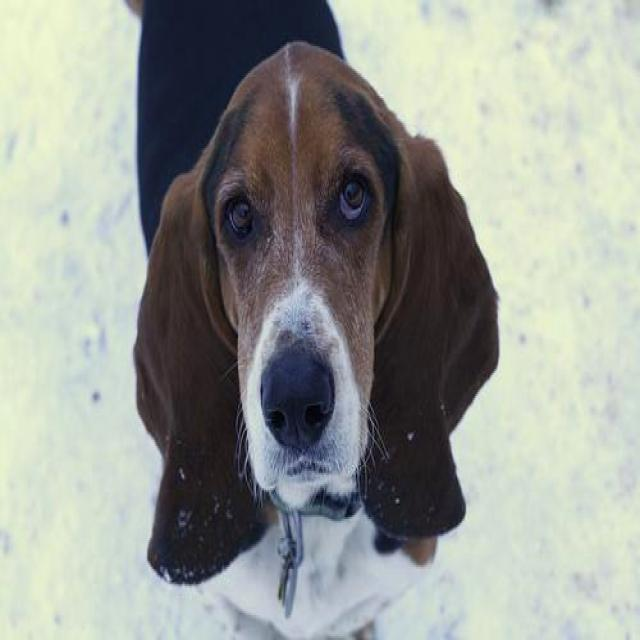basset: (122, 0, 498, 638)
